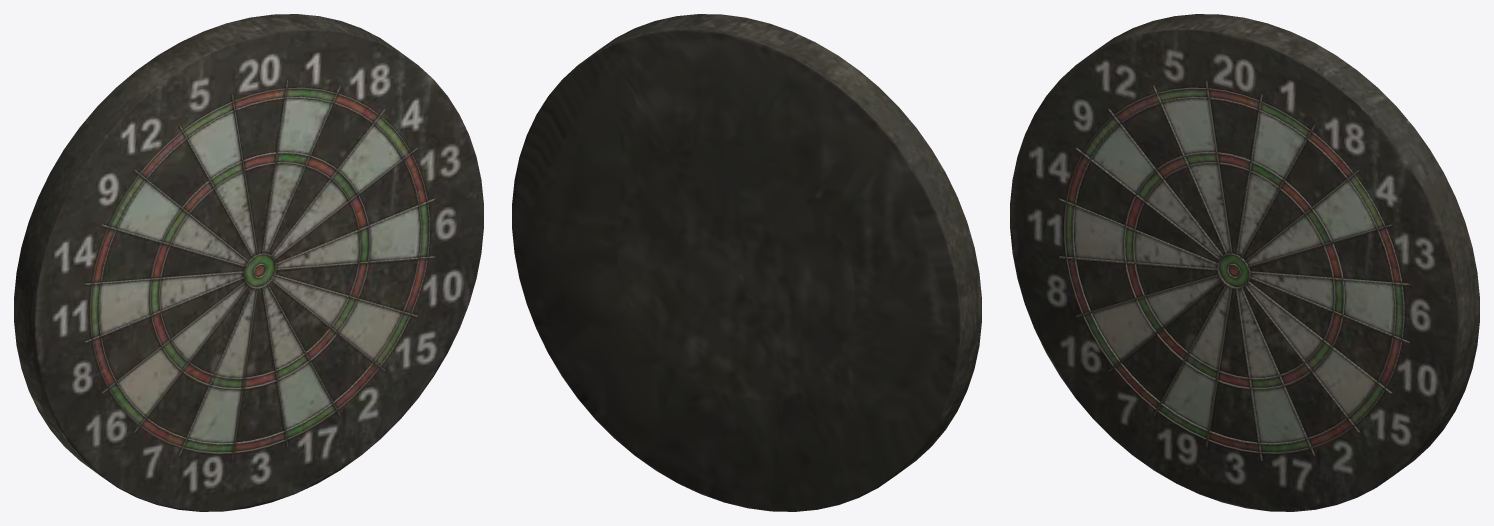
The model's file is dartboard.glb.
3 views of the same model, side by side, from view 1: azimuth 30°, elevation 25°; view 2: azimuth 150°, elevation 25°; view 3: azimuth 330°, elevation 25° (orthographic).
Visible parts, largest first — view 1: dartboard; view 2: dartboard; view 3: dartboard.
Part boxes in pixels (x1,y1,x2,y2): dartboard: (14, 14, 483, 511); dartboard: (512, 14, 981, 511); dartboard: (1010, 14, 1479, 511).
Bounding box in the file's own units: 0.4507 × 0.4507 × 0.0398.
1 material, 1 textured.
